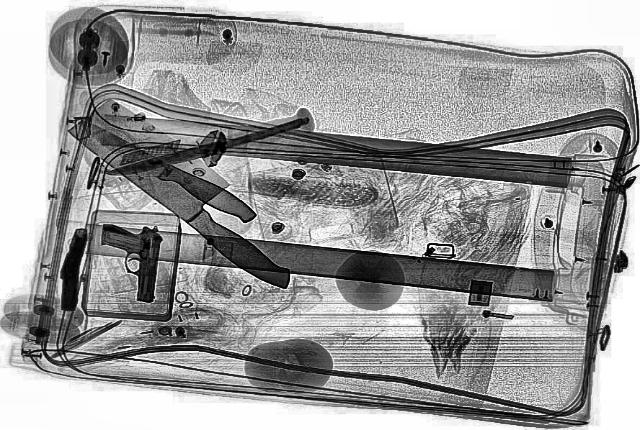Gun: (92, 222, 164, 302), (56, 228, 88, 312)
Knife: (54, 93, 330, 297), (63, 113, 263, 225), (103, 118, 311, 180)
